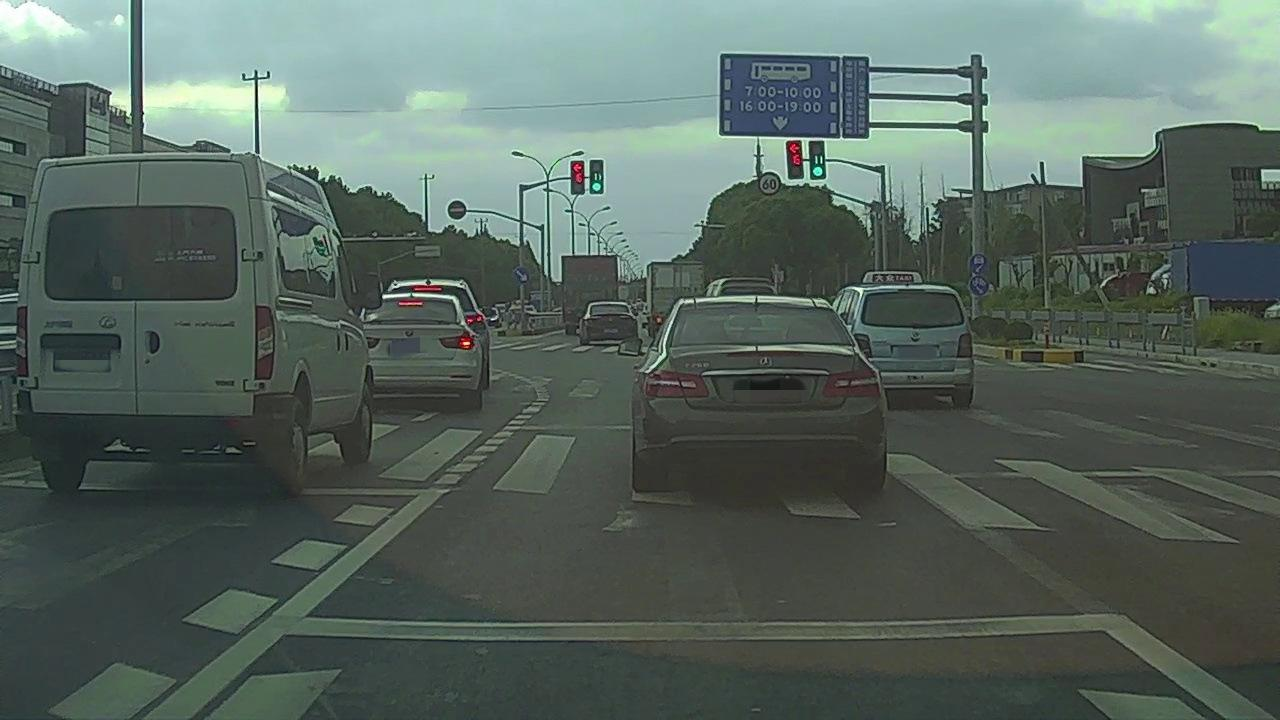traffic_light: (785, 140, 803, 179), (808, 141, 825, 180), (570, 160, 584, 194), (589, 160, 603, 194)
